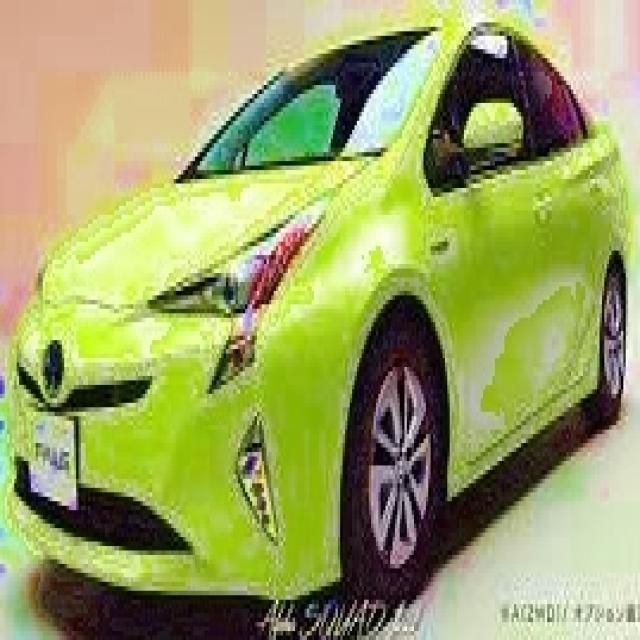green: (12, 18, 630, 618)
